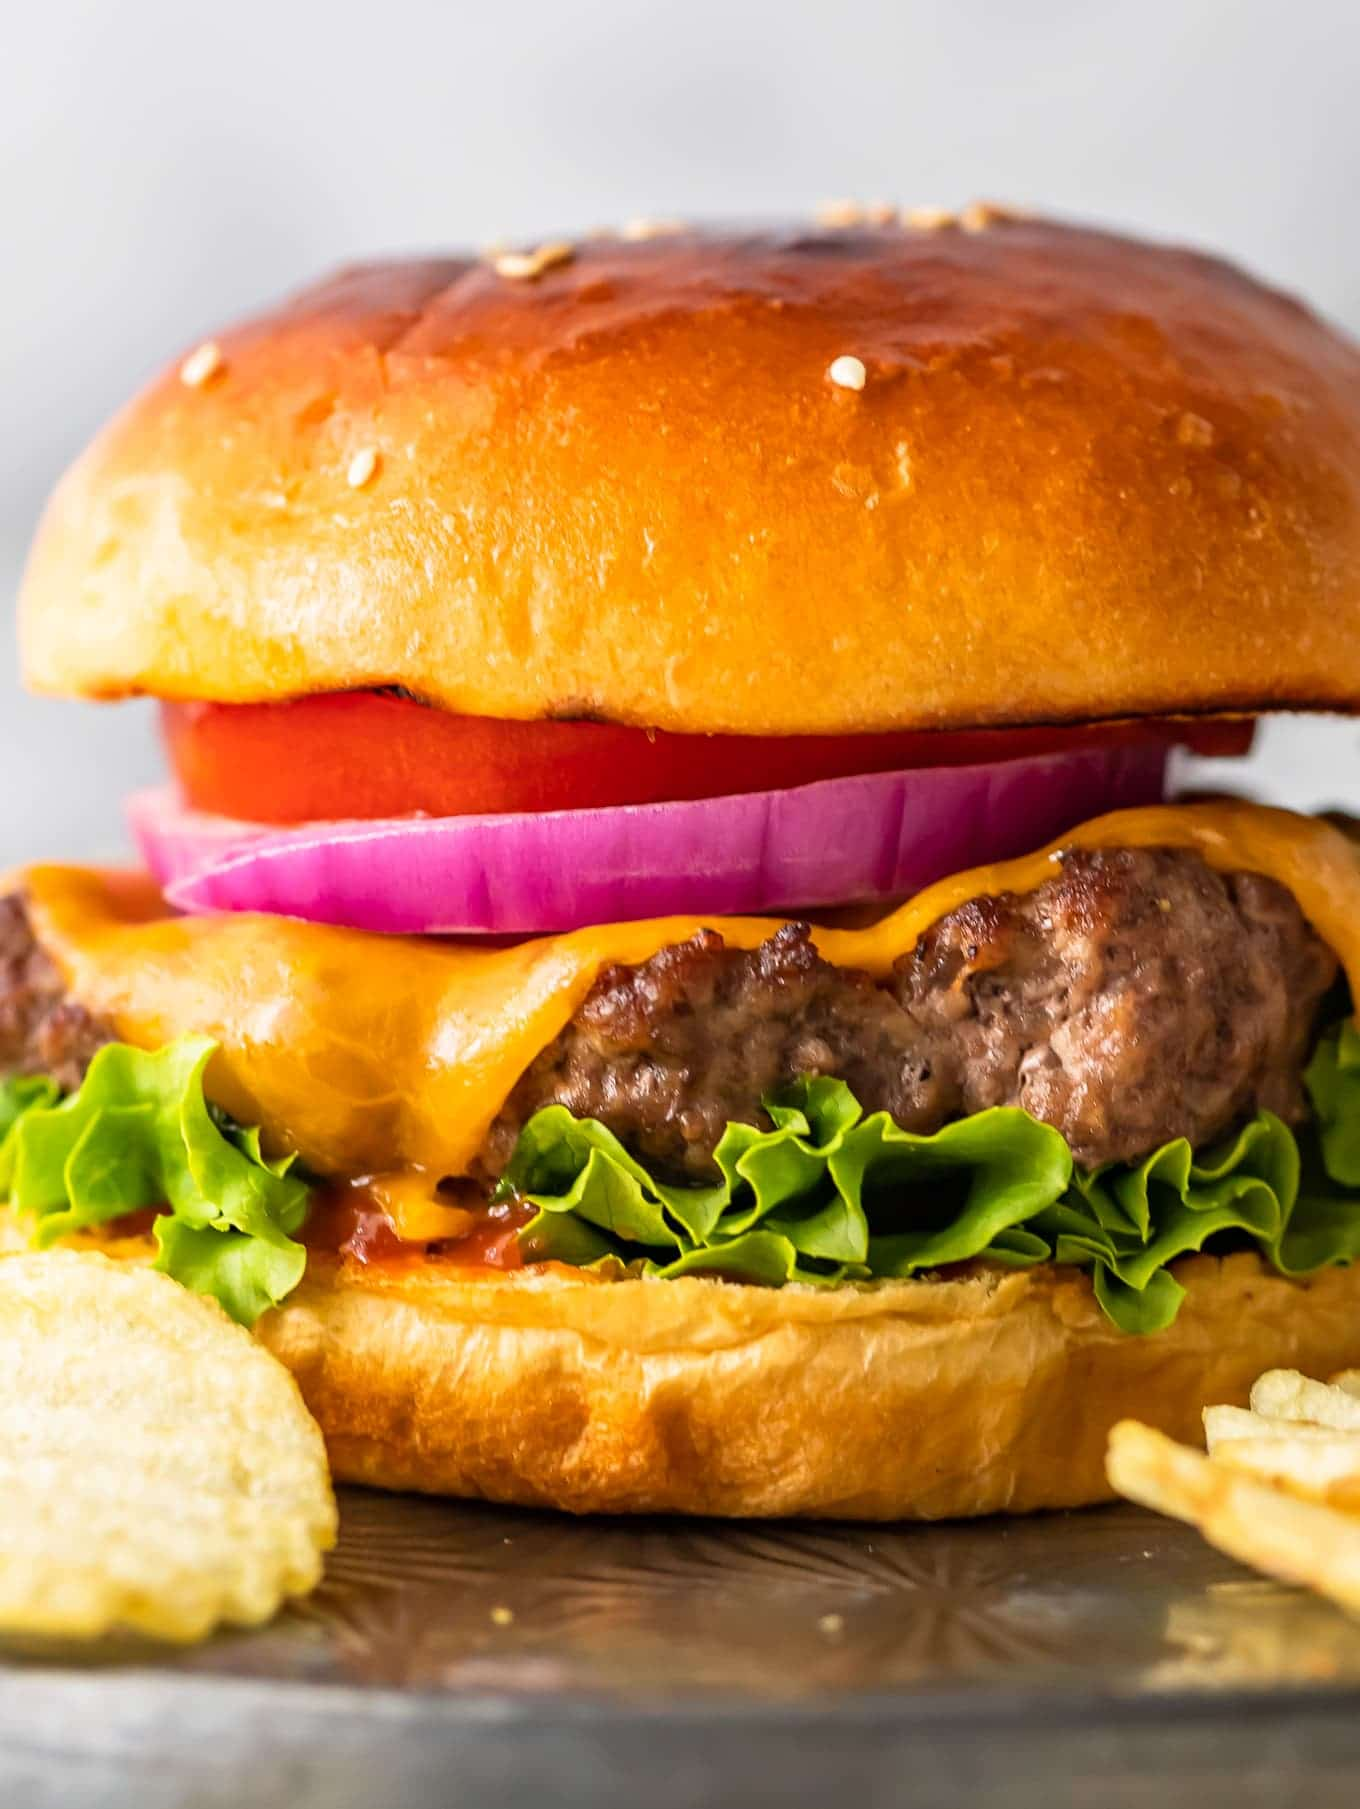hamburger_buns: (34, 154, 1360, 723)
